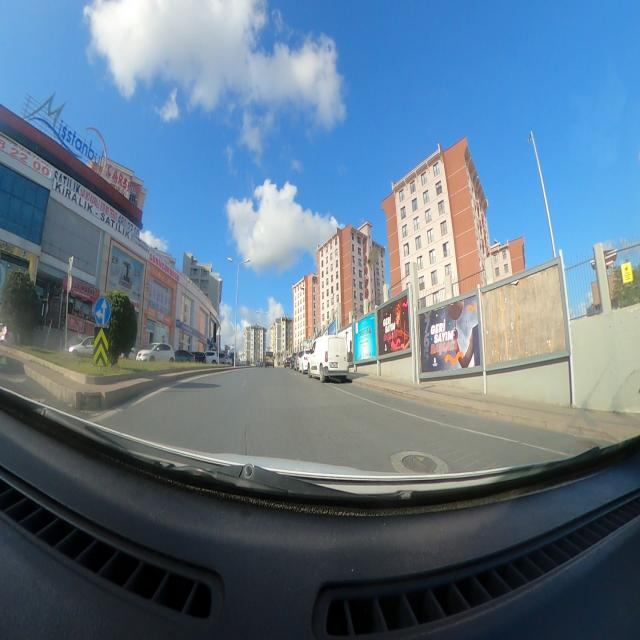SignStore: (70, 278, 100, 302), (147, 306, 172, 327)
